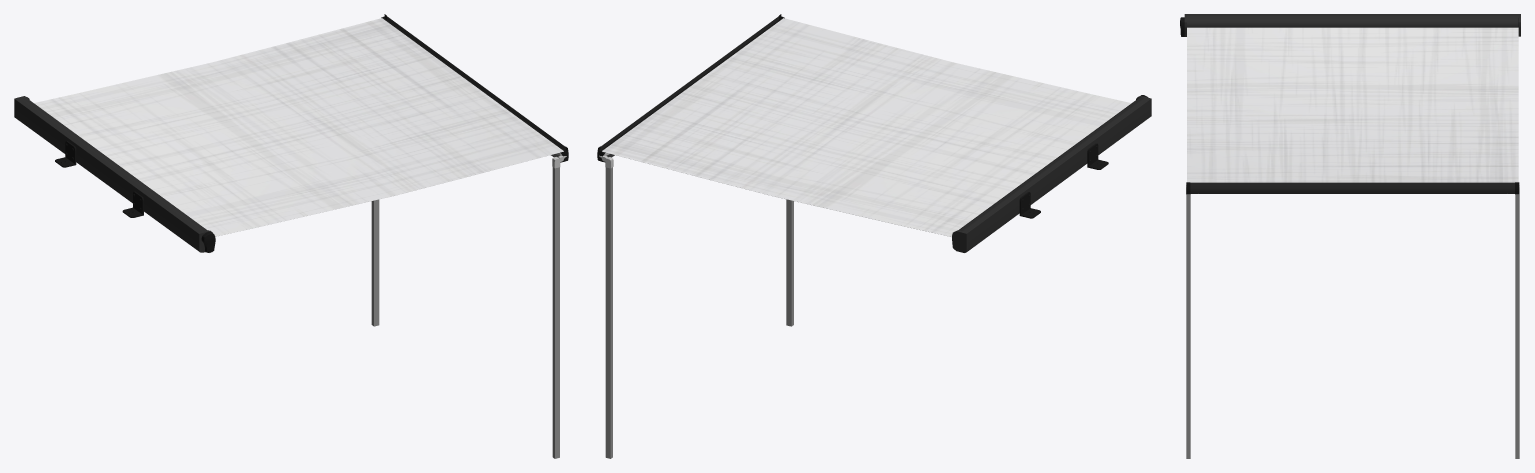
File: thule_hideaway.glb
The picture shows the model from 3 angles, left to right: view 1: azimuth 30°, elevation 25°; view 2: azimuth 150°, elevation 25°; view 3: azimuth 270°, elevation 25°; orthographic projection. The views are drawn at different scales.
Parts seen in each view (by area): view 1: thule_hideaway.005, thule_hideaway.003, thule_hideaway.012, thule_hideaway.011, thule_hideaway; view 2: thule_hideaway.005, thule_hideaway.003, thule_hideaway.011, thule_hideaway.012, thule_hideaway; view 3: thule_hideaway.005, thule_hideaway, thule_hideaway.002, thule_hideaway.003, thule_hideaway.011, thule_hideaway.012.
Part boxes in pixels (x1,y1,x2,y2): thule_hideaway.005: (34,18,563,236); thule_hideaway.003: (14,96,212,252); thule_hideaway.012: (552,167,559,458); thule_hideaway.011: (371,199,379,326); thule_hideaway: (386,16,565,155); thule_hideaway.005: (602,18,1131,236); thule_hideaway.003: (952,96,1151,252); thule_hideaway.011: (605,167,612,458); thule_hideaway.012: (786,199,793,326); thule_hideaway: (600,16,779,150); thule_hideaway.005: (1187,27,1518,182); thule_hideaway: (1190,182,1514,193); thule_hideaway.002: (1187,17,1518,28); thule_hideaway.003: (1184,14,1520,36); thule_hideaway.011: (1515,194,1519,458); thule_hideaway.012: (1186,194,1190,458).
Size of the model in its own units: 12.44 by 9.7 by 10.53.
Materials: 5 (1 with a texture image).
